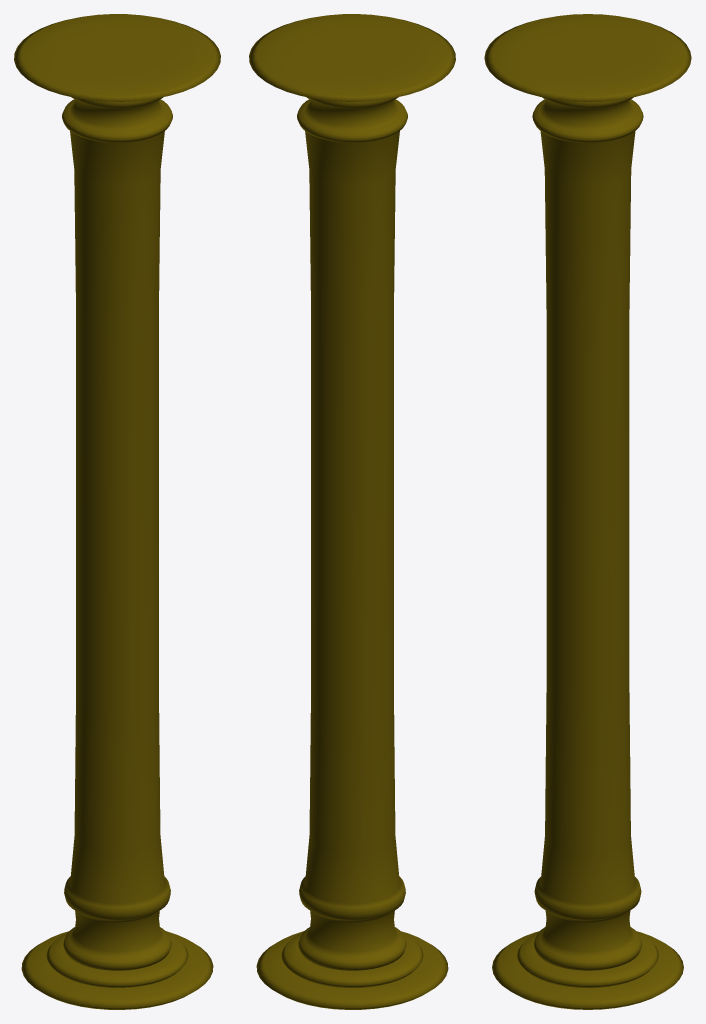
File: pillarv1_early.fbx
The picture shows the model from 3 angles, left to right: view 1: azimuth 30°, elevation 25°; view 2: azimuth 150°, elevation 25°; view 3: azimuth 270°, elevation 25°; orthographic projection.
Visible parts, largest first — view 1: pillar; view 2: pillar; view 3: pillar.
Part boxes in pixels (x1=…): pillar: x1=14, y1=14, x2=220, y2=1009; pillar: x1=249, y1=14, x2=455, y2=1009; pillar: x1=484, y1=14, x2=691, y2=1009.
Size of the model in its own units: 4.93 by 24.18 by 4.93.
